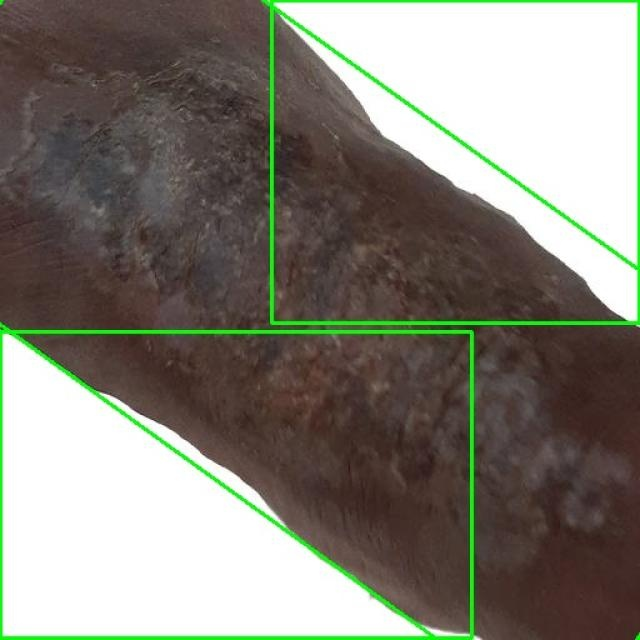Contact Dermatitis: (0, 0, 640, 640), (0, 332, 472, 639), (271, 0, 639, 322)
